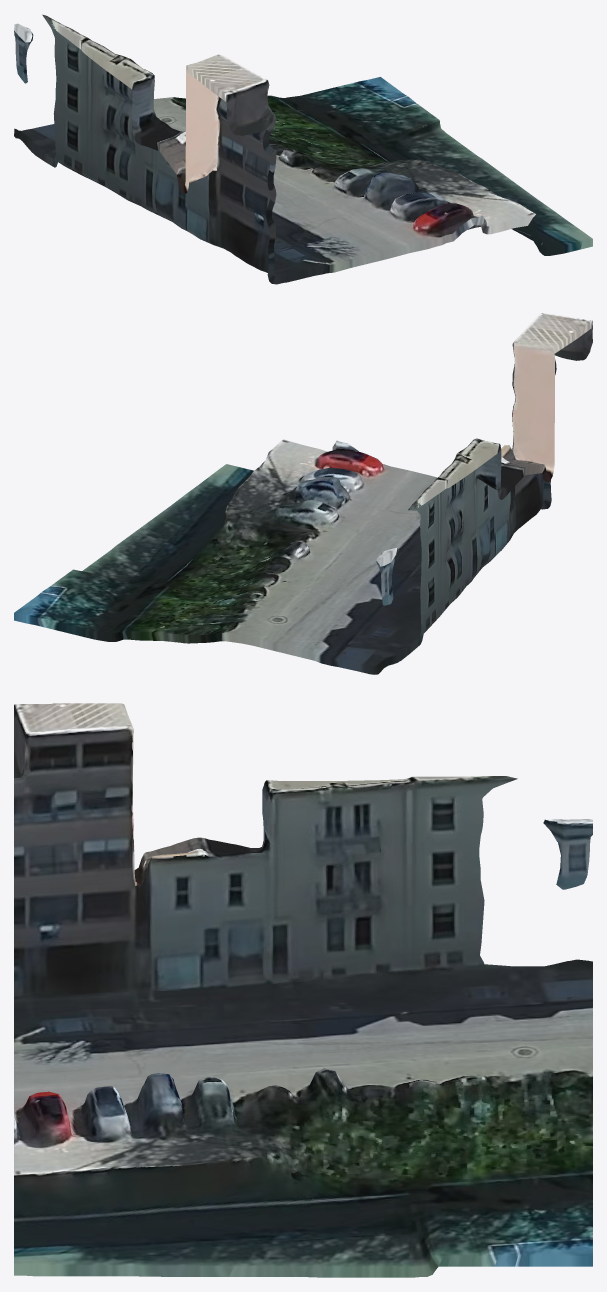
The model's file is z20-167737-405196-h0-yup-uvflip-v3-world.glb.
The picture shows the model from 3 angles, top to bottom: view 1: azimuth 30°, elevation 25°; view 2: azimuth 150°, elevation 25°; view 3: azimuth 270°, elevation 25°; orthographic projection. The views are drawn at different scales.
Bounding box in the file's own units: 30.2 × 19.16 × 30.32.
1 material, 1 textured.
